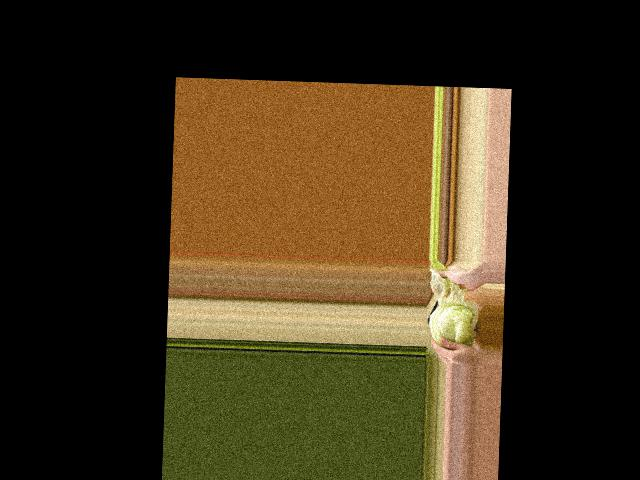lettuce: (426, 288, 482, 351)
